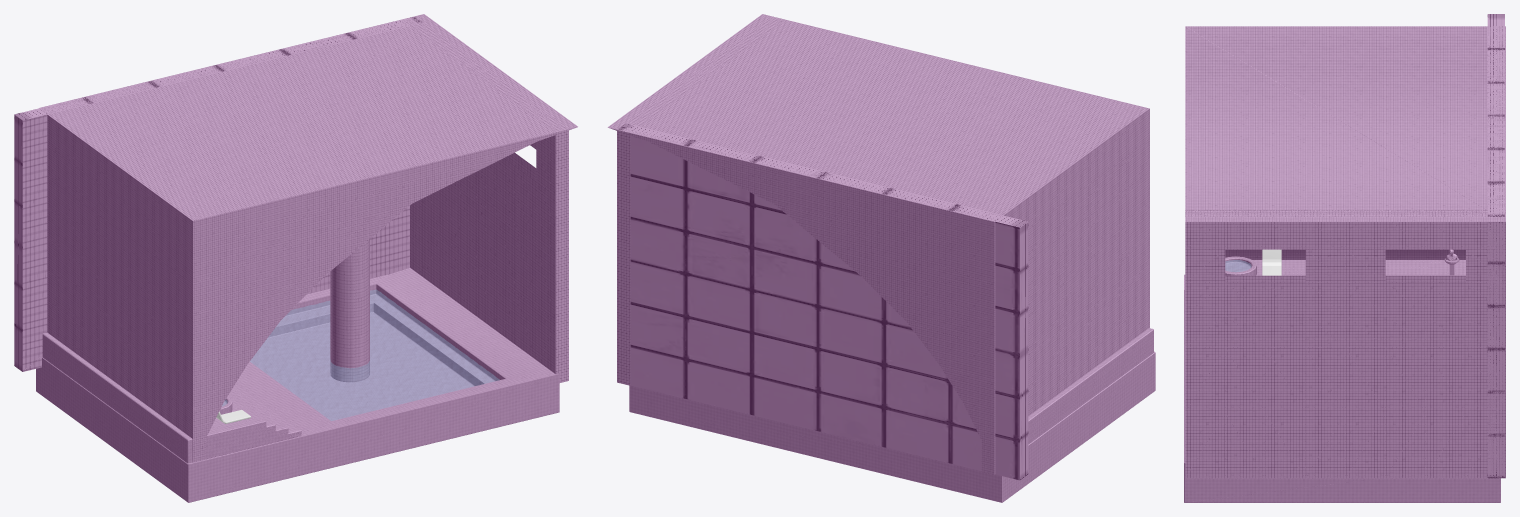
The model's file is poolroom-transformed.glb.
3 views of the same model, side by side, from view 1: azimuth 30°, elevation 25°; view 2: azimuth 150°, elevation 25°; view 3: azimuth 270°, elevation 25° (orthographic). The views are drawn at different scales.
Parts seen in each view (by area): view 1: pCube1_tiles_white_0, pasted__pCube2_water_0; view 2: pCube1_tiles_white_0; view 3: pCube1_tiles_white_0, pCube6_phong3_0.
Boxes of the visible parts, x1=… form: pCube1_tiles_white_0: x1=14, y1=14, x2=577, y2=502; pasted__pCube2_water_0: x1=222, y1=290, x2=499, y2=420; pCube1_tiles_white_0: x1=607, y1=14, x2=1155, y2=502; pCube1_tiles_white_0: x1=1184, y1=14, x2=1505, y2=502; pCube6_phong3_0: x1=1262, y1=249, x2=1281, y2=275.
Size of the model in its own units: 16.45 by 10.78 by 10.76.
3 materials, 1 textured.
